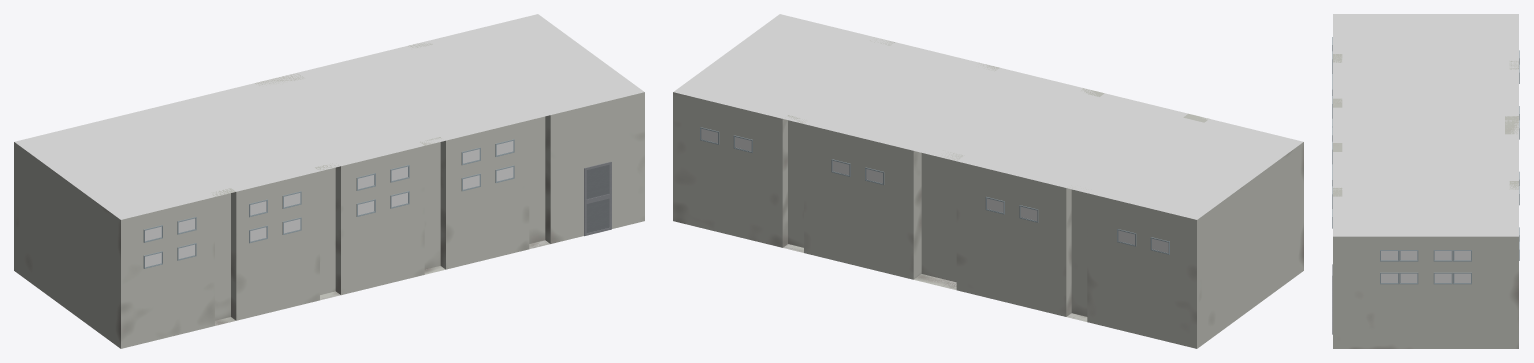
Rendered from Room.fbx.
3 renders of one model, left to right at view 1: azimuth 30°, elevation 25°; view 2: azimuth 150°, elevation 25°; view 3: azimuth 270°, elevation 25°, orthographic. The views are drawn at different scales.
Visible parts, largest first — view 1: WALL, ROOF, window_glass.001, window, PINTU; view 2: WALL, ROOF, window_glass.001, window; view 3: ROOF, WALL, window_glass.001, window.
Part boxes in pixels (bbox=[...]): WALL: bbox=[14, 42, 644, 348]; ROOF: bbox=[14, 14, 644, 219]; window_glass.001: bbox=[145, 141, 513, 267]; window: bbox=[143, 139, 514, 268]; PINTU: bbox=[584, 161, 611, 236]; WALL: bbox=[673, 39, 1303, 348]; ROOF: bbox=[673, 14, 1303, 219]; window_glass.001: bbox=[701, 128, 1168, 252]; window: bbox=[700, 127, 1169, 254]; ROOF: bbox=[1333, 14, 1518, 236]; WALL: bbox=[1333, 54, 1518, 348]; window_glass.001: bbox=[1381, 251, 1470, 282]; window: bbox=[1332, 37, 1519, 284].
Bounding box in the file's own units: 1702 × 400 × 604.
7 materials, 4 textured.
